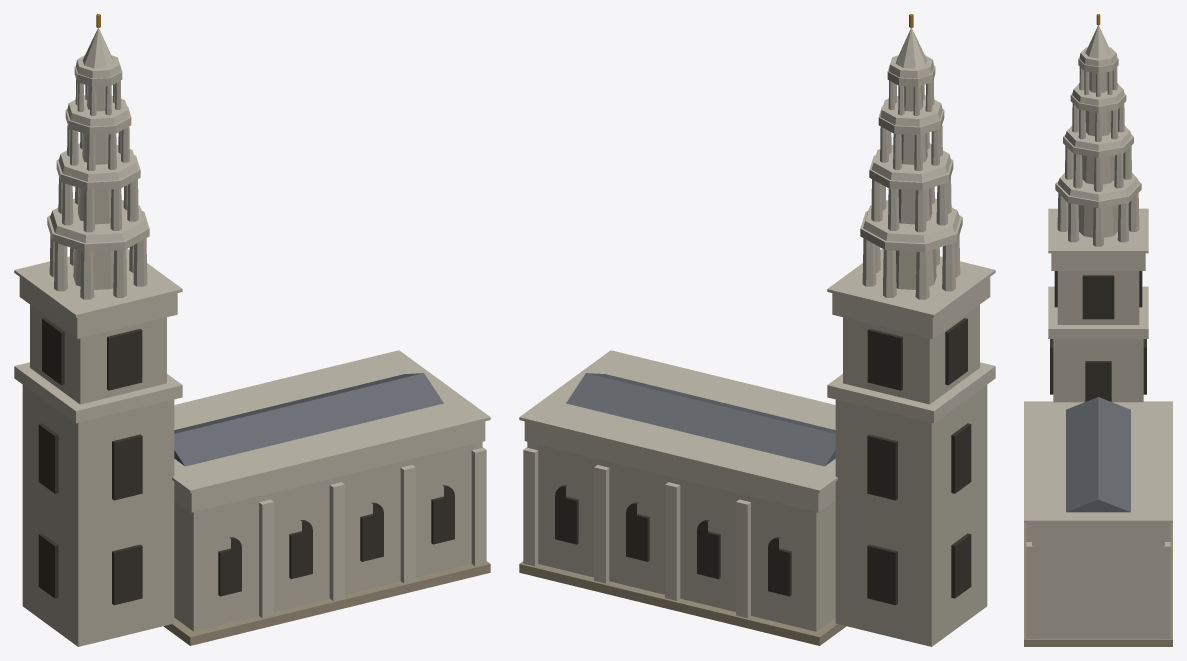
File: wren_church_bride.glb
3 renders of one model, left to right at view 1: azimuth 30°, elevation 25°; view 2: azimuth 150°, elevation 25°; view 3: azimuth 270°, elevation 25°, orthographic. The views are drawn at different scales.
Visible parts, largest first — view 1: wren_church_bride; view 2: wren_church_bride; view 3: wren_church_bride.
Part boxes in pixels (x1=…): wren_church_bride: x1=14, y1=14, x2=490, y2=646; wren_church_bride: x1=519, y1=14, x2=995, y2=646; wren_church_bride: x1=1024, y1=14, x2=1172, y2=646.
Size of the model in its own units: 47.9 by 69.7 by 19.
